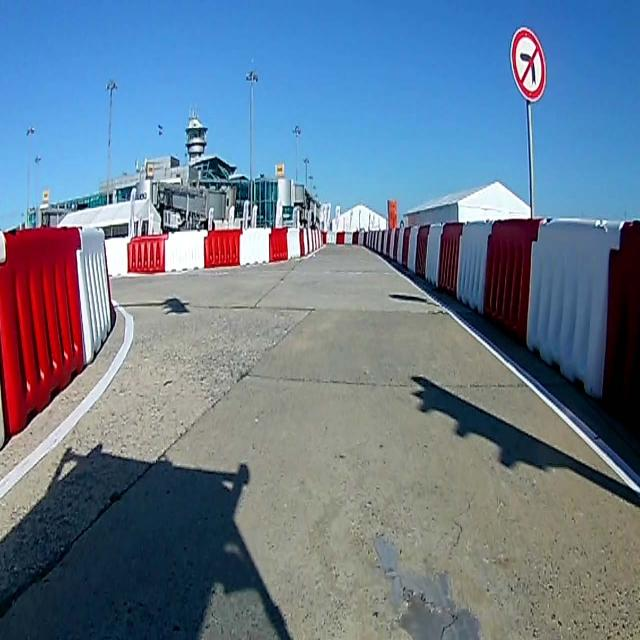soladonulmez: (510, 28, 546, 99)
